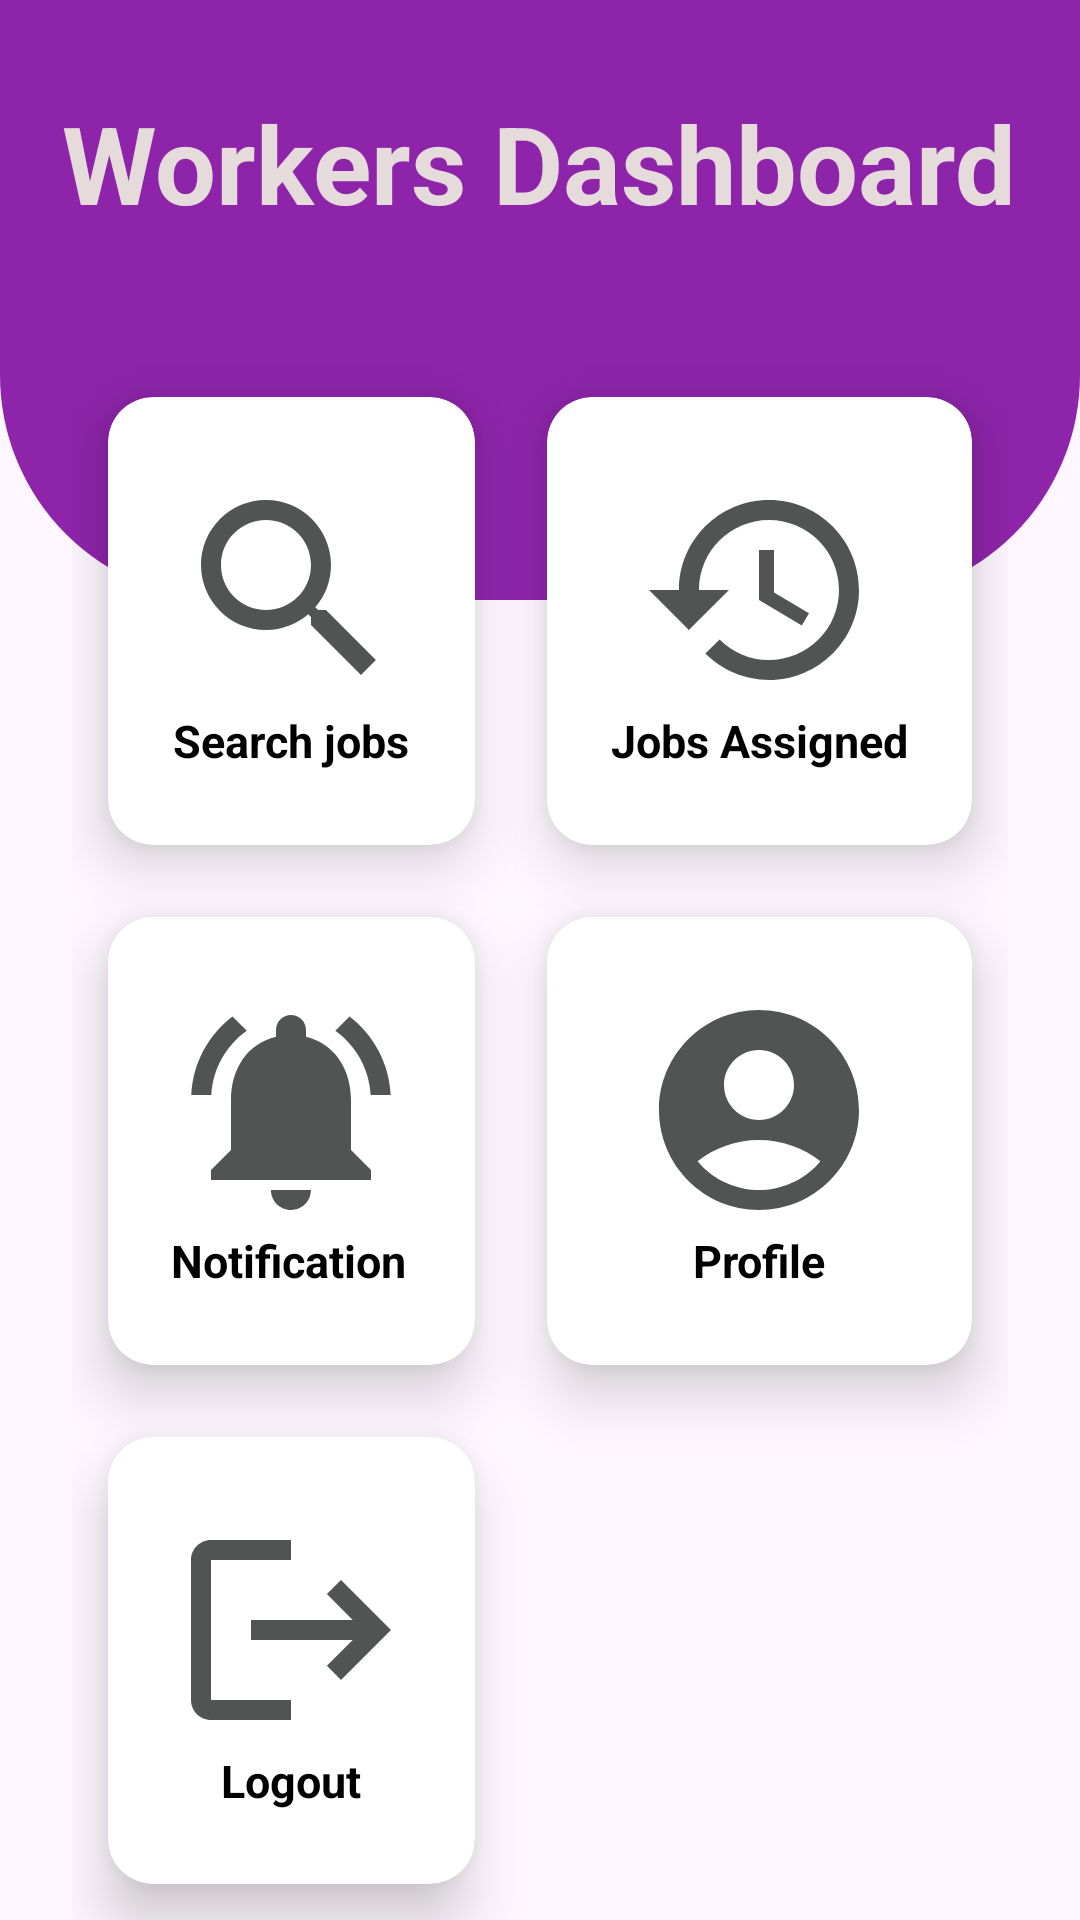

Screen size 1080px x 1920px. Icon name, then its center in pixels as (x=x, y=y):
history: (x=754, y=590)
